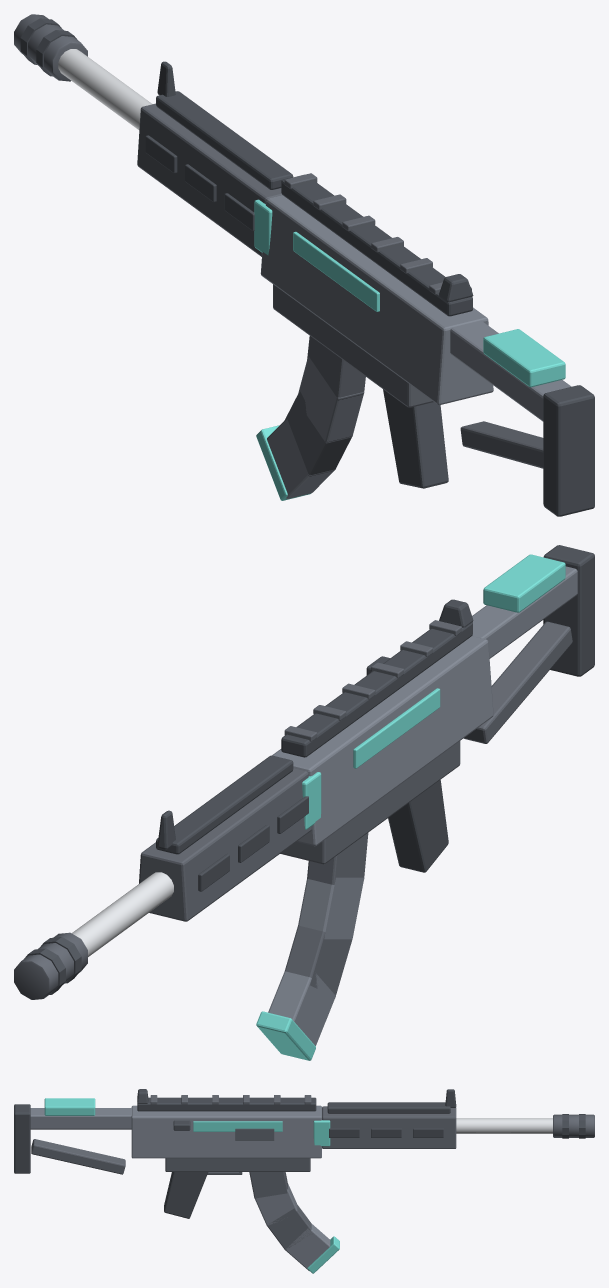
File: weapon_rifle.glb
3 views of the same model, one above another, from view 1: azimuth 30°, elevation 25°; view 2: azimuth 150°, elevation 25°; view 3: azimuth 270°, elevation 25° (orthographic). The views are drawn at different scales.
Parts seen in each view (by area): view 1: weapon_rifle_v2; view 2: weapon_rifle_v2; view 3: weapon_rifle_v2.
Part boxes in pixels (<box>): weapon_rifle_v2: <box>14,14,594,516</box>; weapon_rifle_v2: <box>14,545,594,1060</box>; weapon_rifle_v2: <box>14,1089,594,1273</box>.
Bounding box in the file's own units: 0.085 × 0.3561 × 1.04.
